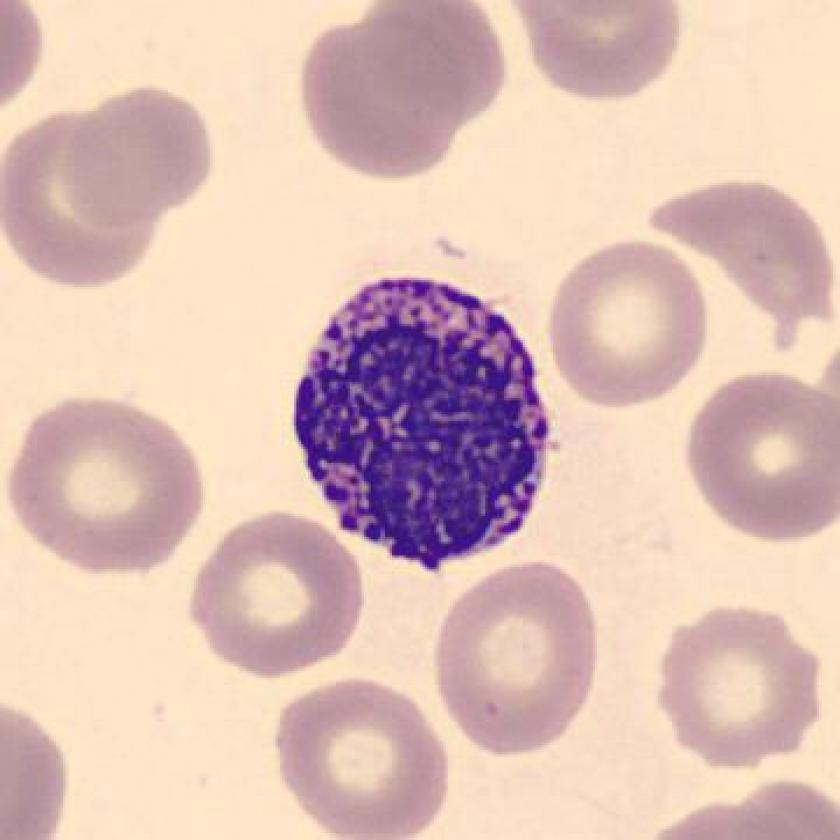basophil: (293, 263, 566, 577)
